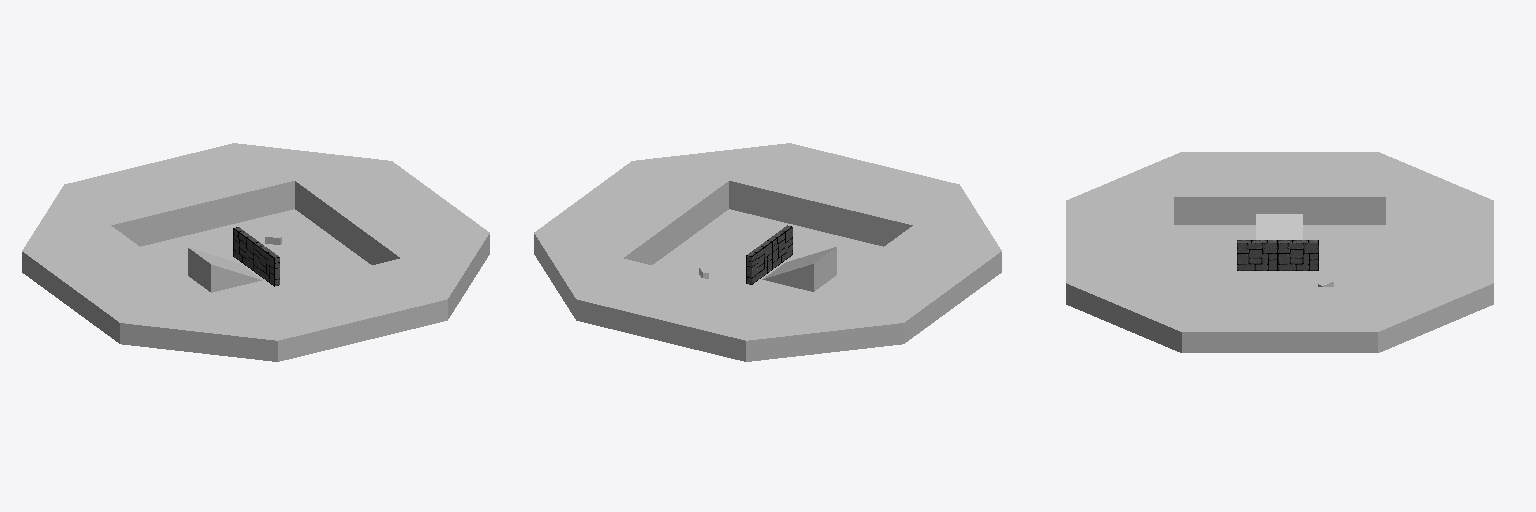
The picture shows the model from 3 angles: view 1: azimuth 30°, elevation 25°; view 2: azimuth 150°, elevation 25°; view 3: azimuth 270°, elevation 25°; orthographic projection.
Parts seen in each view (by area): view 1: Cylinder, Plane.002_Plane.003, Cube.030_Cube.042; view 2: Cylinder, Plane.002_Plane.003, Cube.030_Cube.042; view 3: Cylinder, Cube.030_Cube.042, Plane.002_Plane.003.
Boxes of the visible parts, <box> form: Cylinder: <box>22,143,489,361</box>; Plane.002_Plane.003: <box>188,248,261,292</box>; Cube.030_Cube.042: <box>233,227,279,286</box>; Cylinder: <box>534,143,1001,361</box>; Plane.002_Plane.003: <box>762,247,836,291</box>; Cube.030_Cube.042: <box>746,225,792,284</box>; Cylinder: <box>1066,152,1493,352</box>; Cube.030_Cube.042: <box>1237,240,1318,270</box>; Plane.002_Plane.003: <box>1256,214,1302,239</box>.
Size of the model in its own units: 54.56 by 4.04 by 54.56.
Materials: 3 (1 with a texture image).